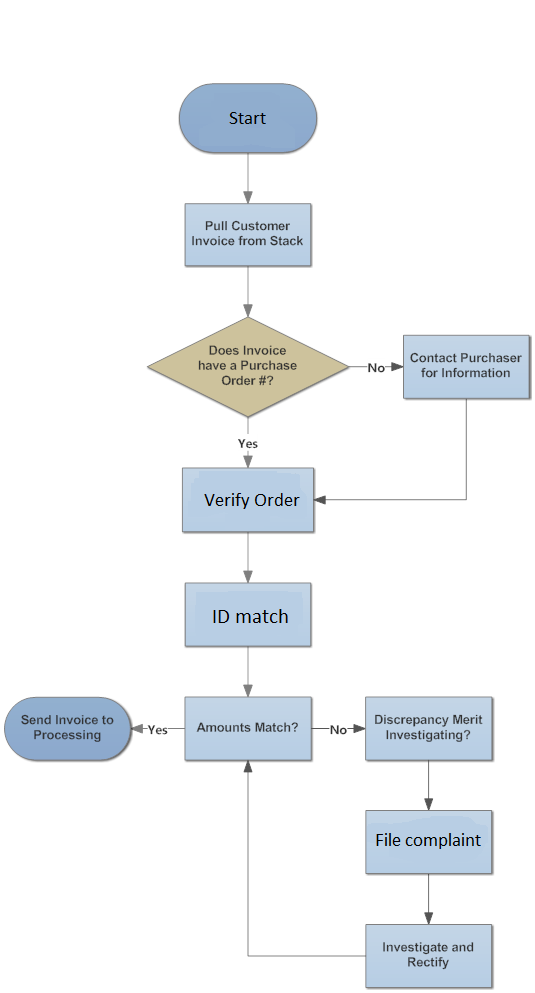arrow: (239, 756, 363, 962), (315, 402, 472, 505), (236, 149, 263, 205), (236, 642, 260, 697), (313, 721, 365, 741), (239, 264, 257, 320), (237, 533, 257, 583), (419, 870, 436, 926), (419, 756, 436, 809), (240, 418, 259, 465), (131, 721, 181, 738), (348, 362, 404, 376)
decision: (142, 317, 359, 418)
process: (177, 462, 322, 538), (359, 805, 498, 879), (180, 579, 318, 653), (362, 692, 498, 767), (181, 691, 315, 767), (362, 920, 501, 993), (399, 329, 534, 403), (180, 199, 318, 270)
terminator: (174, 80, 319, 161), (1, 692, 134, 764)
text: (195, 341, 299, 389), (189, 214, 306, 250), (371, 709, 486, 744), (407, 349, 527, 380), (378, 935, 477, 971), (18, 709, 116, 744), (372, 826, 483, 850), (196, 486, 304, 508), (192, 718, 301, 738), (210, 605, 290, 627), (225, 105, 269, 130), (233, 432, 266, 452), (143, 720, 174, 741), (324, 717, 348, 742), (365, 359, 387, 377)
